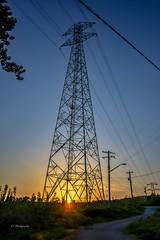power_tower: (42, 14, 104, 203)
